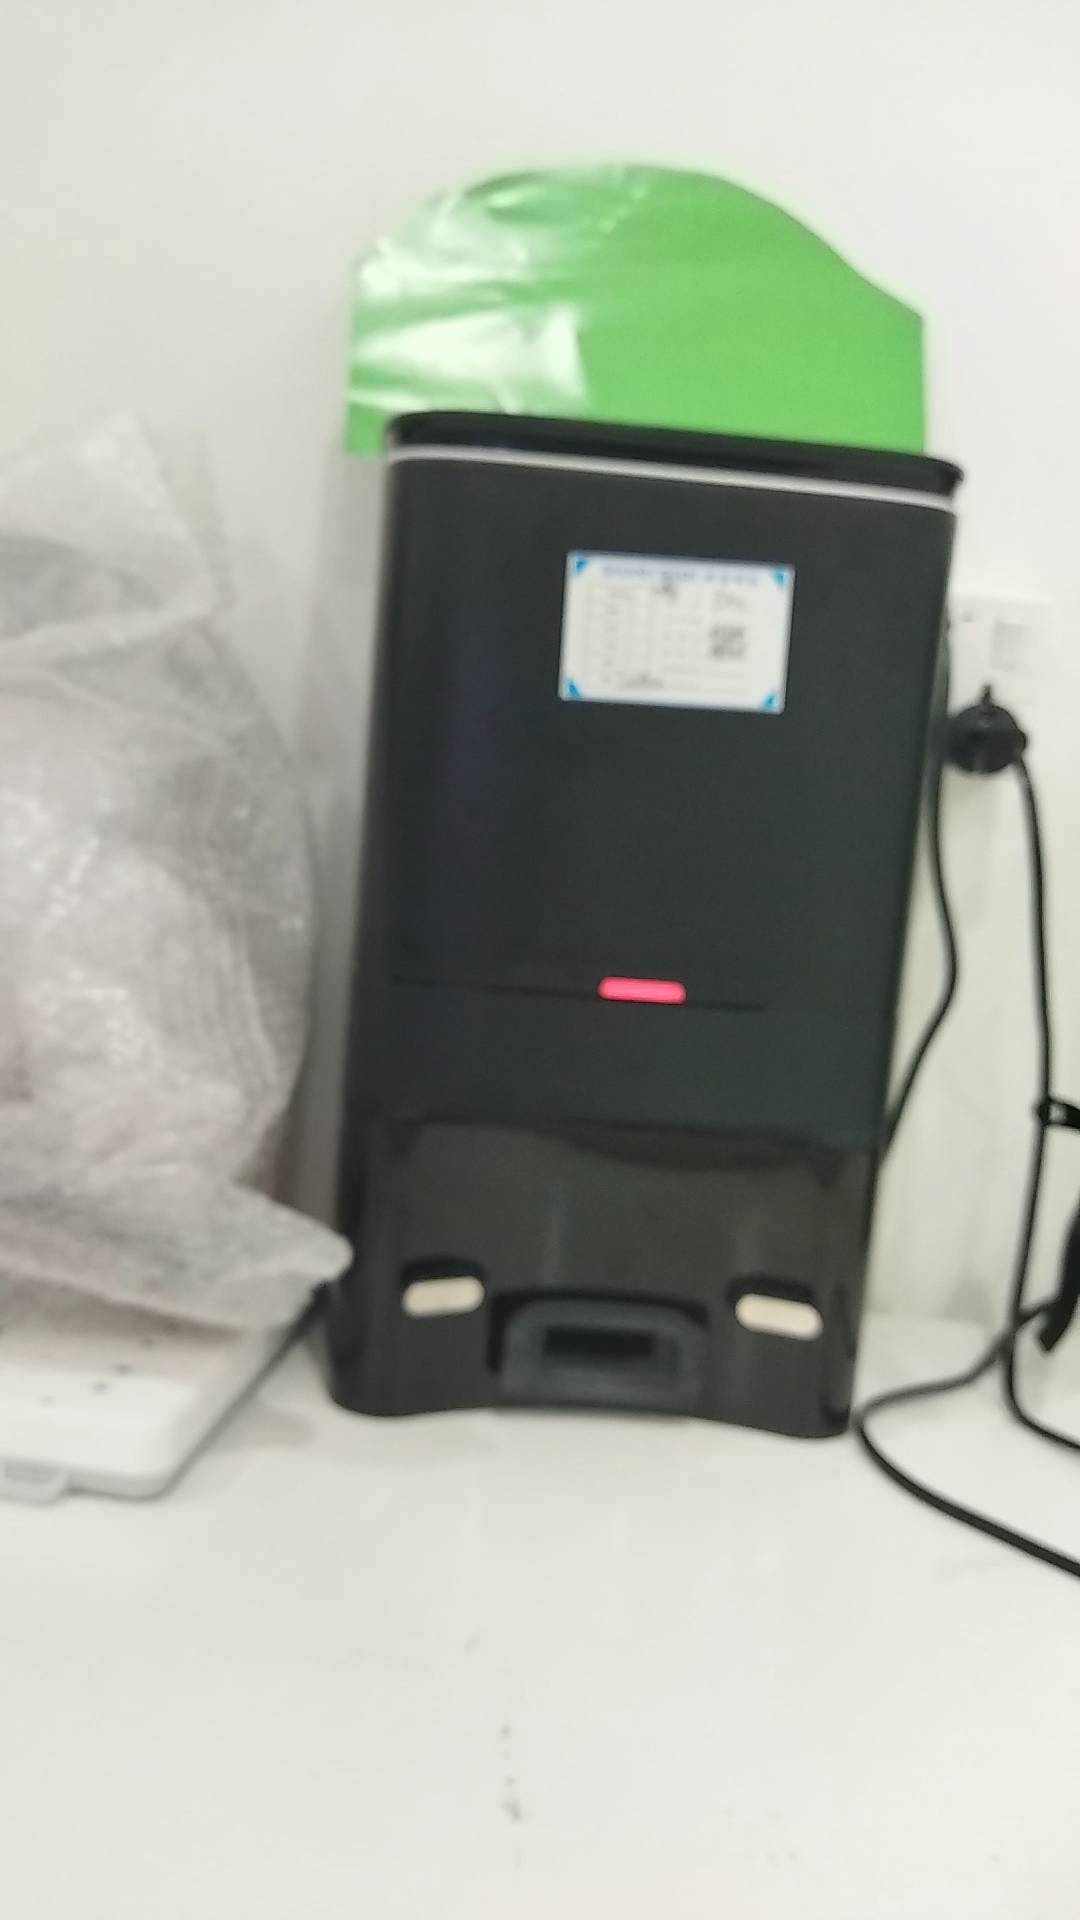dust collecting barrel: (318, 407, 968, 1443)
